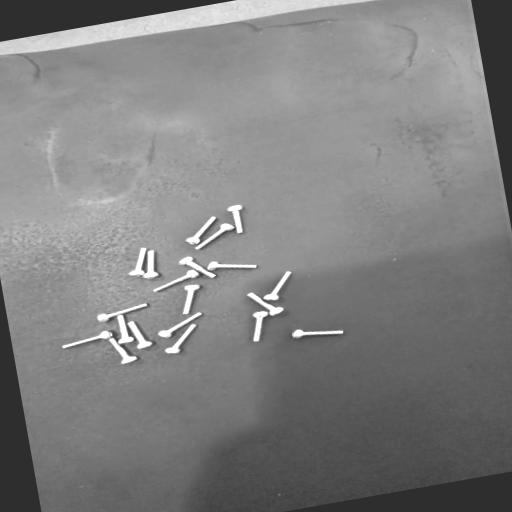Bolt: (158, 312, 202, 337), (154, 270, 199, 292), (196, 223, 234, 249), (98, 303, 148, 322), (166, 324, 197, 353), (63, 331, 112, 348), (187, 217, 216, 245), (248, 293, 283, 316), (264, 272, 292, 300), (179, 257, 216, 278), (109, 338, 137, 364), (128, 321, 152, 348), (129, 248, 147, 276), (117, 315, 134, 344), (183, 285, 200, 314), (143, 250, 159, 279), (292, 329, 343, 338), (253, 311, 268, 341), (228, 205, 243, 233), (208, 262, 257, 270)
